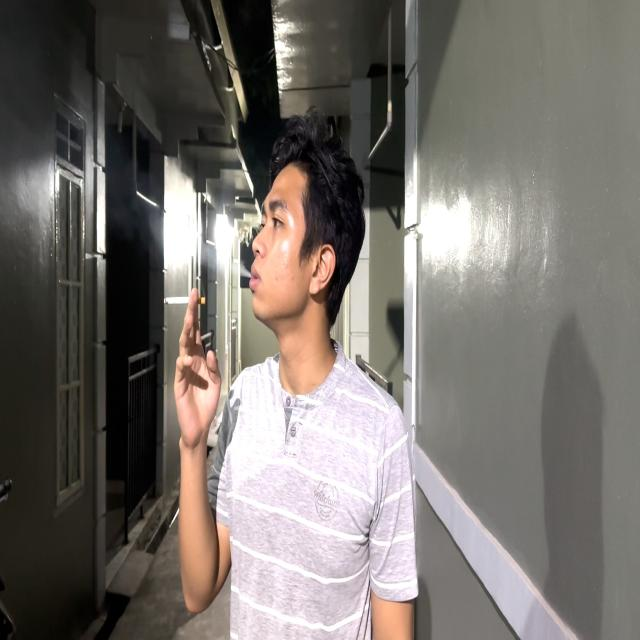cigarette: (160, 290, 212, 316)
smoking: (150, 98, 374, 617)
